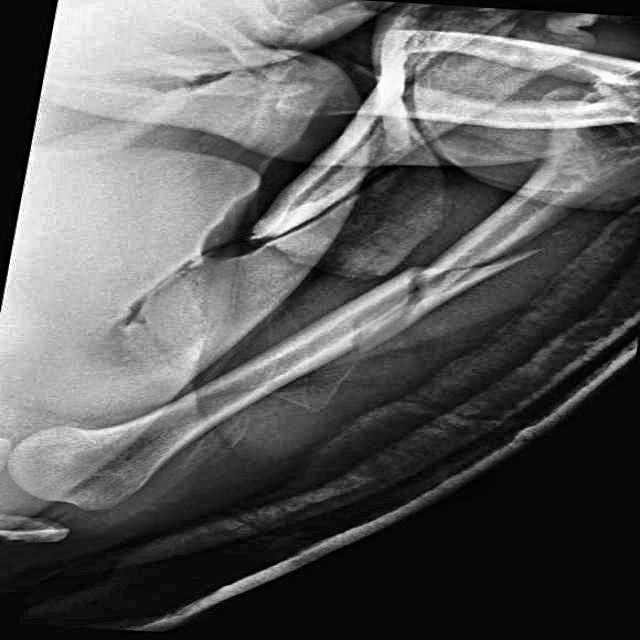Spiral: (314, 242, 548, 364)
